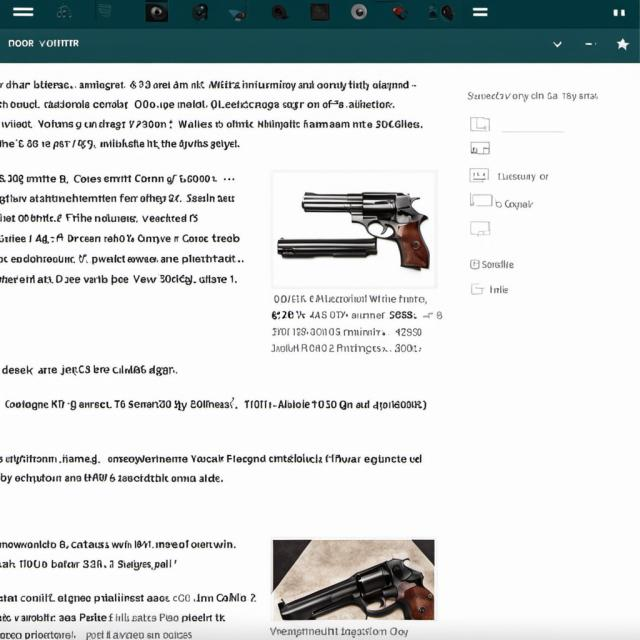gun: (279, 554, 436, 628), (301, 185, 435, 266)
